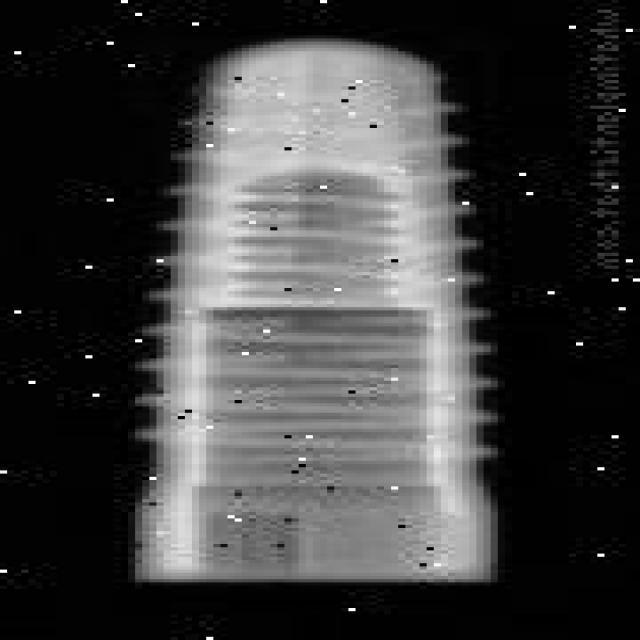Root canal obturation: (125, 33, 498, 583)
